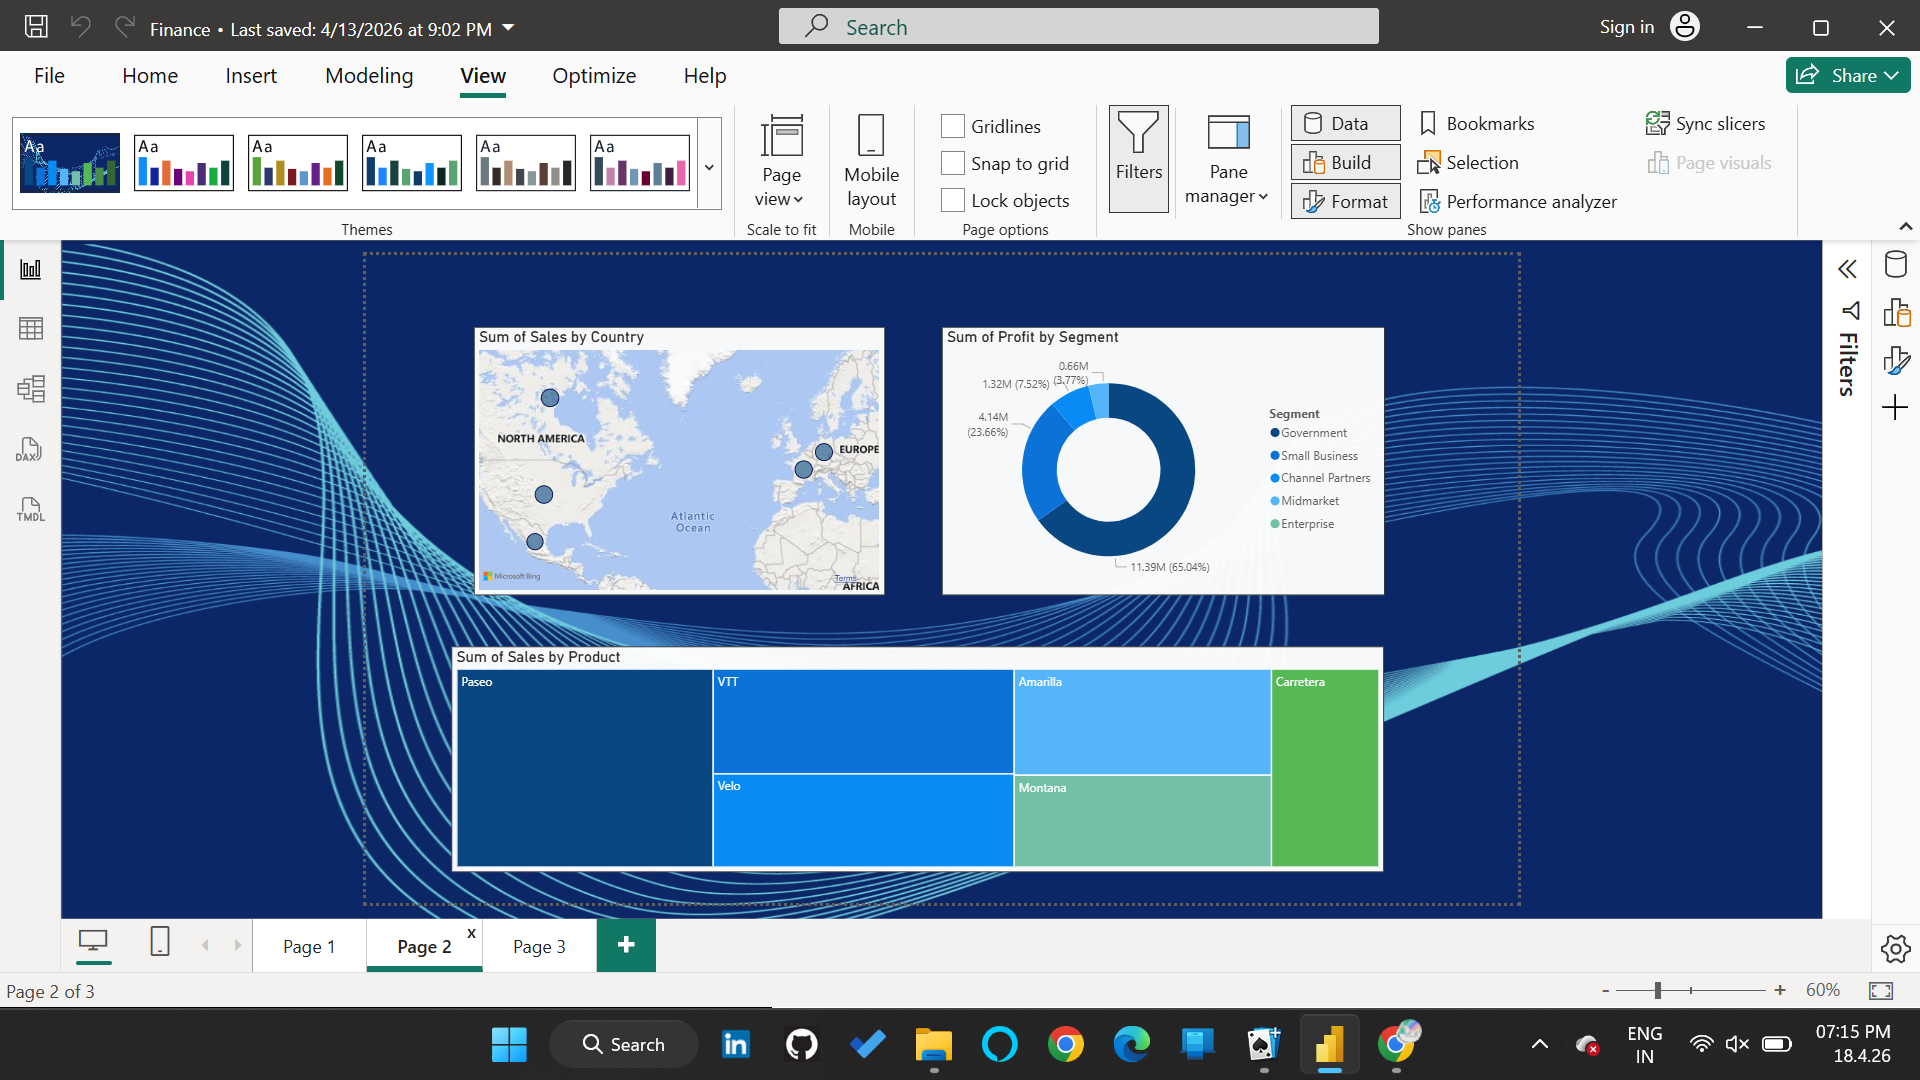

The page's visual inventory and layout, read from the dashboard file:
{"tool":"powerbi","page":{"name":"Page 2","canvas":[1280,720],"ordinal":1},"visuals":[{"type":"map","fields":{"Category":["Sheet1.Country"],"Size":["Sum(Sheet1. Sales)"]},"box":[119.8,79.3,456.6,297.9],"z":0},{"type":"donutChart","fields":{"Y":["Sum(Sheet1.Profit)"],"Category":["Sheet1.Segment"]},"box":[639.6,79.3,492.2,297.9],"z":1},{"type":"treemap","fields":{"Values":["Sum(Sheet1. Sales)"],"Group":["Sheet1.Product"]},"box":[95.5,435.6,1036.3,251],"z":2}]}

Visuals, with their boxes on the page's 1280x720 design canvas (x1, y1, x2, y2). These are canvas units, not pixel positions in the 1920x1080 screenshot, which may show the page scaled, cropped or inside an application window:
map - Sheet1.Country x Sum(Sheet1. Sales): [left=120, top=79, right=576, bottom=377]
donutChart - Sum(Sheet1.Profit) x Sheet1.Segment: [left=640, top=79, right=1132, bottom=377]
treemap - Sum(Sheet1. Sales) x Sheet1.Product: [left=96, top=436, right=1132, bottom=687]
